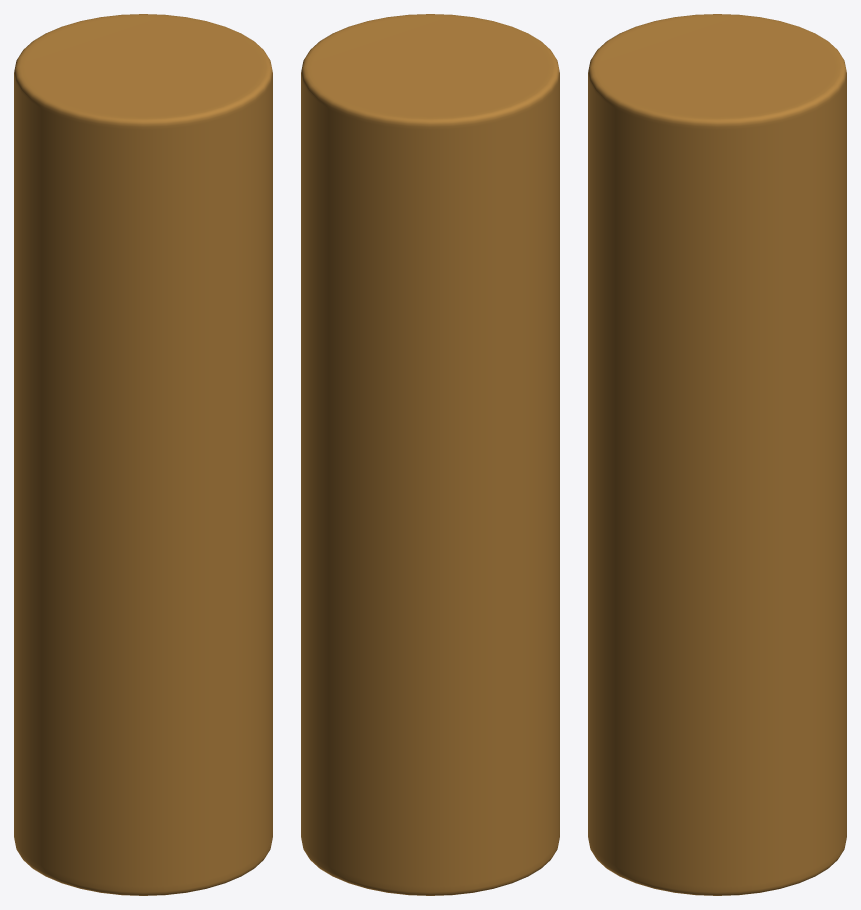
File: Pipe_End.fbx
3 renders of one model, left to right at view 1: azimuth 30°, elevation 25°; view 2: azimuth 150°, elevation 25°; view 3: azimuth 270°, elevation 25°, orthographic.
Visible parts, largest first — view 1: End; view 2: End; view 3: End.
Part boxes in pixels (x1,y1,x2,y2): End: (14,14,272,895); End: (301,14,559,895); End: (588,14,846,895).
Bounding box in the file's own units: 16.79 × 55.58 × 16.79.
